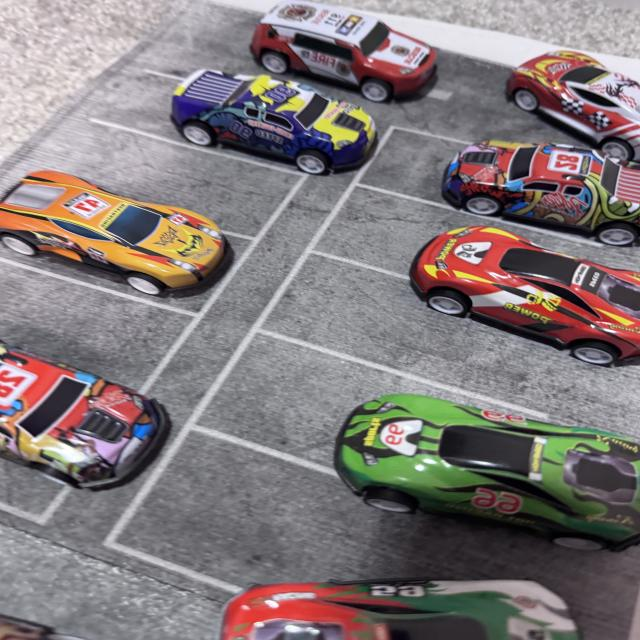car: (299, 403, 622, 565), (178, 539, 640, 640), (0, 348, 191, 500), (480, 32, 640, 200), (15, 164, 235, 286), (376, 247, 640, 346), (226, 0, 444, 87), (196, 76, 391, 162), (439, 157, 640, 236)
